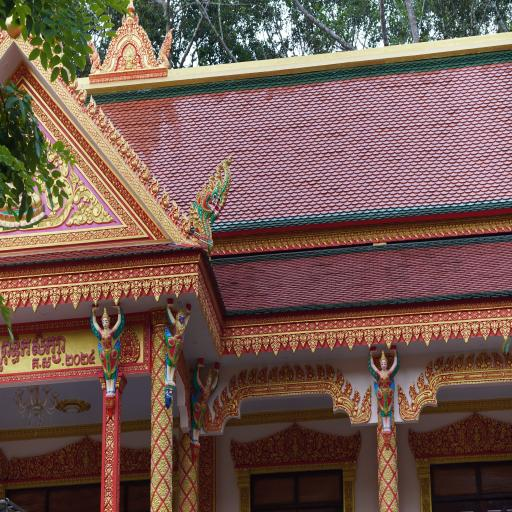hoa: (327, 319, 335, 332), (479, 310, 489, 320), (499, 308, 509, 318), (308, 320, 316, 332), (224, 326, 233, 336), (363, 316, 372, 326), (34, 105, 42, 116), (61, 274, 68, 286), (82, 271, 89, 283), (110, 198, 117, 210), (281, 322, 288, 334), (384, 316, 393, 325), (30, 277, 38, 287), (71, 274, 79, 284), (91, 272, 99, 282), (112, 270, 120, 280), (142, 267, 150, 277), (40, 113, 48, 123), (78, 160, 86, 170), (116, 207, 124, 217), (112, 228, 120, 238), (244, 326, 252, 336), (290, 323, 298, 333), (298, 322, 306, 332), (412, 313, 420, 323), (91, 173, 98, 184), (345, 318, 352, 329), (355, 318, 362, 329), (442, 310, 449, 321), (461, 310, 468, 321), (1, 280, 9, 289), (42, 274, 48, 286), (122, 269, 130, 278), (71, 151, 79, 160), (85, 167, 91, 179), (104, 189, 110, 201), (58, 234, 67, 242), (261, 326, 270, 334), (272, 324, 280, 333), (318, 322, 326, 331), (402, 315, 411, 323), (11, 278, 18, 288), (102, 271, 109, 281), (132, 269, 139, 279), (59, 136, 66, 146), (123, 214, 130, 224), (95, 230, 102, 240), (67, 232, 74, 242), (49, 233, 56, 243), (154, 265, 160, 276), (40, 235, 48, 243), (234, 328, 242, 336), (394, 316, 402, 324), (452, 312, 460, 320), (490, 310, 498, 318), (76, 231, 83, 240), (253, 326, 260, 335), (422, 314, 429, 323), (432, 312, 439, 321), (471, 310, 478, 319), (21, 278, 27, 288), (52, 275, 58, 285), (47, 120, 53, 130), (98, 183, 104, 193), (85, 230, 91, 240), (23, 236, 29, 246), (337, 320, 343, 330), (183, 264, 190, 272), (121, 229, 128, 237), (103, 229, 110, 237), (164, 265, 170, 274), (174, 265, 180, 274), (53, 129, 59, 138), (14, 237, 20, 246), (5, 238, 11, 247), (376, 316, 381, 326), (32, 236, 38, 244)
la: (396, 384, 416, 422), (355, 384, 374, 422), (27, 286, 42, 314), (230, 335, 246, 360), (75, 81, 88, 111), (108, 282, 123, 307), (66, 68, 78, 98), (476, 350, 491, 374), (129, 281, 144, 304), (150, 278, 163, 304), (490, 348, 503, 374), (94, 102, 106, 130), (158, 182, 169, 212), (458, 320, 471, 345), (498, 319, 512, 342), (85, 92, 96, 121), (8, 290, 21, 314), (89, 284, 102, 308), (344, 331, 356, 356), (68, 287, 81, 310), (362, 326, 374, 350), (420, 324, 432, 348), (478, 320, 490, 344), (103, 116, 114, 142), (180, 209, 190, 237), (204, 403, 214, 431), (423, 356, 433, 384), (248, 336, 261, 357), (113, 126, 123, 153), (170, 200, 180, 227), (279, 364, 293, 383), (287, 334, 299, 356), (306, 332, 318, 354), (324, 330, 336, 352), (140, 160, 150, 186), (170, 277, 183, 297), (257, 364, 268, 387), (182, 274, 194, 295), (382, 328, 394, 349), (148, 173, 158, 198), (334, 368, 344, 393), (221, 338, 234, 357), (401, 327, 414, 346), (130, 146, 139, 173), (212, 396, 223, 418), (49, 289, 61, 309), (439, 324, 451, 344), (228, 372, 238, 396), (247, 364, 257, 388), (342, 376, 352, 400), (464, 351, 474, 375), (121, 136, 130, 162), (455, 351, 464, 377), (220, 382, 230, 405), (444, 351, 454, 374), (268, 364, 279, 384), (324, 362, 334, 384), (161, 276, 173, 294), (292, 363, 304, 381), (18, 288, 28, 309), (269, 338, 280, 357), (238, 365, 246, 391), (350, 386, 360, 406), (304, 363, 315, 381), (314, 361, 323, 383), (503, 348, 512, 370), (408, 381, 416, 405), (417, 372, 425, 396), (80, 284, 90, 303), (469, 319, 479, 338), (334, 330, 345, 347), (434, 351, 441, 377), (122, 280, 132, 298), (316, 330, 326, 348), (490, 320, 499, 340), (451, 322, 460, 341), (40, 288, 50, 305), (141, 279, 151, 296), (241, 336, 251, 353), (279, 333, 289, 350), (393, 325, 402, 343), (260, 336, 270, 352), (411, 326, 421, 342), (297, 332, 306, 349), (431, 324, 440, 341), (101, 283, 110, 299), (354, 328, 363, 344), (373, 327, 382, 343), (61, 287, 69, 304), (0, 292, 9, 307)
ran: (186, 152, 236, 253), (156, 27, 175, 70), (86, 38, 102, 74)
than: (360, 336, 406, 442), (88, 297, 126, 404), (158, 293, 190, 397), (188, 351, 218, 443), (121, 336, 135, 362), (80, 446, 92, 472), (470, 424, 482, 449), (290, 432, 300, 456), (126, 48, 133, 69)
